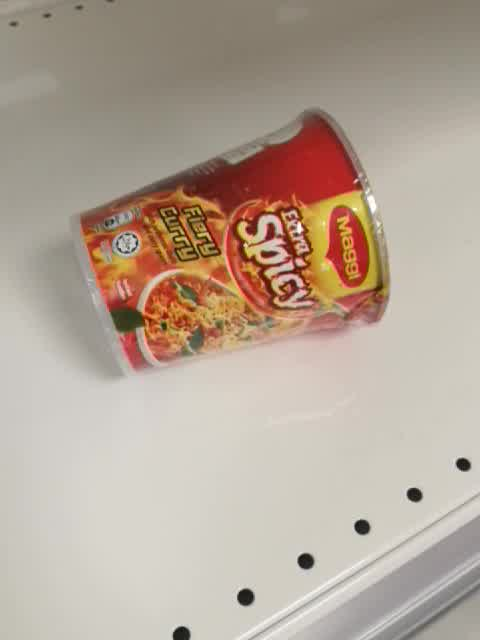maggi: (68, 104, 392, 385)
